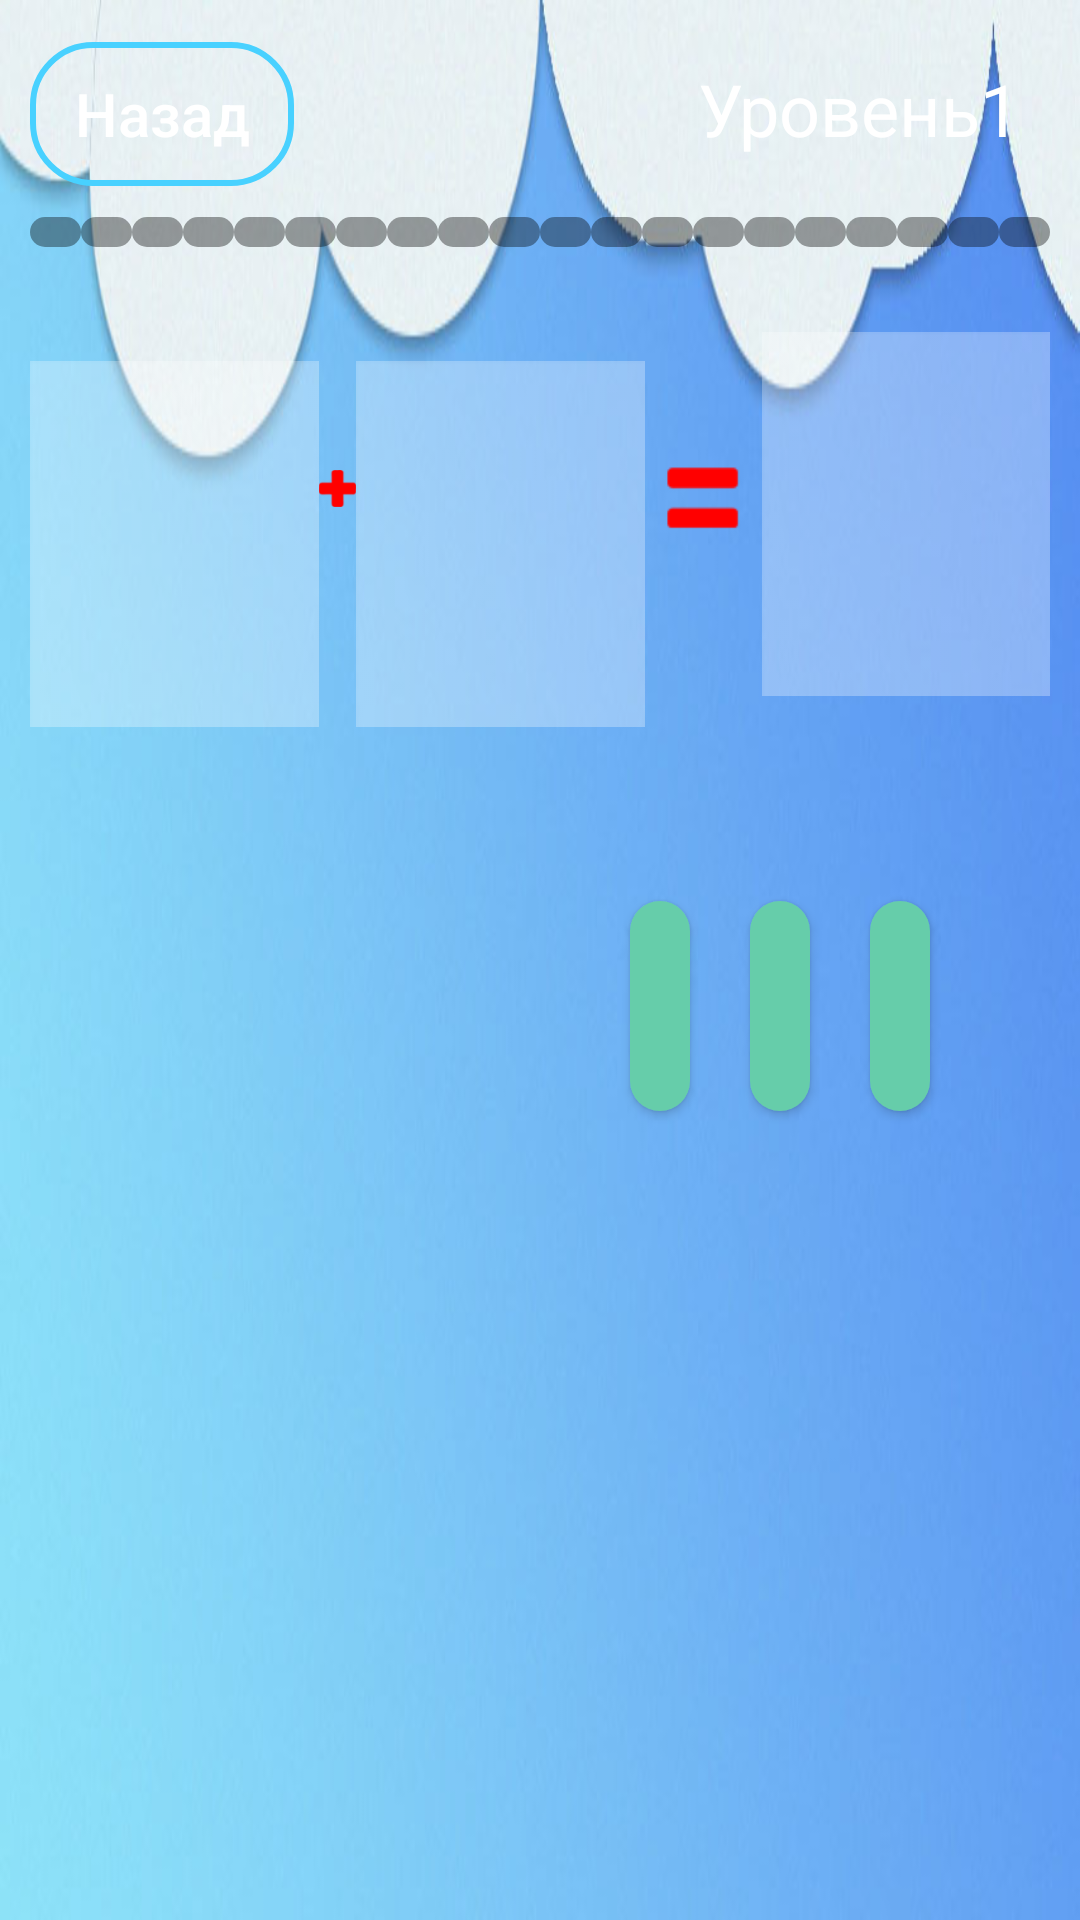

Named icons in this screenshot (1080 x 1920) and their bounding boxes, box(x1, y1, x2, y2):
equals: box(667, 467, 739, 528)
